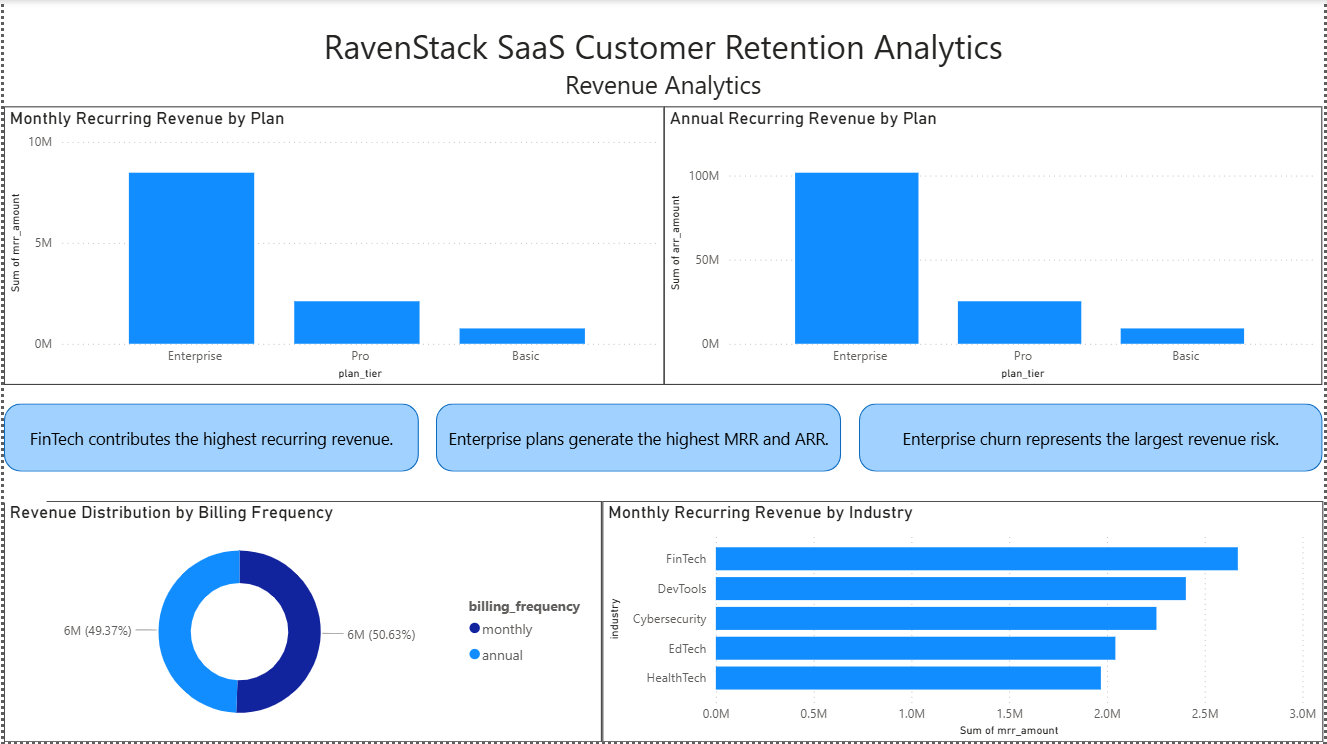

Layout of this report page (visuals, bound fields, positions):
{"tool":"powerbi","page":{"name":"Page 3","canvas":[1280,720],"ordinal":2},"visuals":[{"type":"textbox","box":[0,17,1279.4,86.9],"z":0},{"type":"clusteredColumnChart","title":"Monthly Recurring Revenue by Plan","fields":{"Category":["ravenstack_subscriptions.plan_tier"],"Y":["Sum(ravenstack_subscriptions.mrr_amount)"]},"box":[0,103.9,640.6,270.2],"z":1},{"type":"clusteredColumnChart","title":"Annual Recurring Revenue by Plan","fields":{"Category":["ravenstack_subscriptions.plan_tier"],"Y":["Sum(ravenstack_subscriptions.arr_amount)"]},"box":[640.6,103.9,638.7,270.2],"z":2},{"type":"donutChart","title":"Revenue Distribution by Billing Frequency","fields":{"Category":["ravenstack_subscriptions.billing_frequency"],"Y":["Sum(ravenstack_subscriptions.mrr_amount)"]},"box":[0,485.7,580.2,234.3],"z":3},{"type":"clusteredBarChart","title":"Monthly Recurring Revenue by Industry","fields":{"Category":["ravenstack_accounts.industry"],"Y":["Sum(ravenstack_subscriptions.mrr_amount)"]},"box":[580.2,485.7,699.2,234.3],"z":4},{"type":"textbox","box":[0,425.2,41.6,62.4],"z":5},{"type":"shape","box":[419.5,391.2,393.1,66.1],"z":6},{"type":"shape","box":[0,391.2,402.5,66.1],"z":7},{"type":"shape","box":[829.6,391.2,449.8,66.1],"z":8}]}

Visuals, with their boxes in screenshot pixels (x1, y1, x2, y2), scaled from the page's 1280x720 canvas onto the 1327x744 screenshot:
textbox: locate(0, 18, 1326, 107)
"Monthly Recurring Revenue by Plan" clusteredColumnChart: locate(0, 107, 664, 387)
"Annual Recurring Revenue by Plan" clusteredColumnChart: locate(664, 107, 1326, 387)
"Revenue Distribution by Billing Frequency" donutChart: locate(0, 502, 602, 743)
"Monthly Recurring Revenue by Industry" clusteredBarChart: locate(602, 502, 1326, 743)
textbox: locate(0, 439, 43, 504)
shape: locate(435, 404, 842, 473)
shape: locate(0, 404, 417, 473)
shape: locate(860, 404, 1326, 473)
